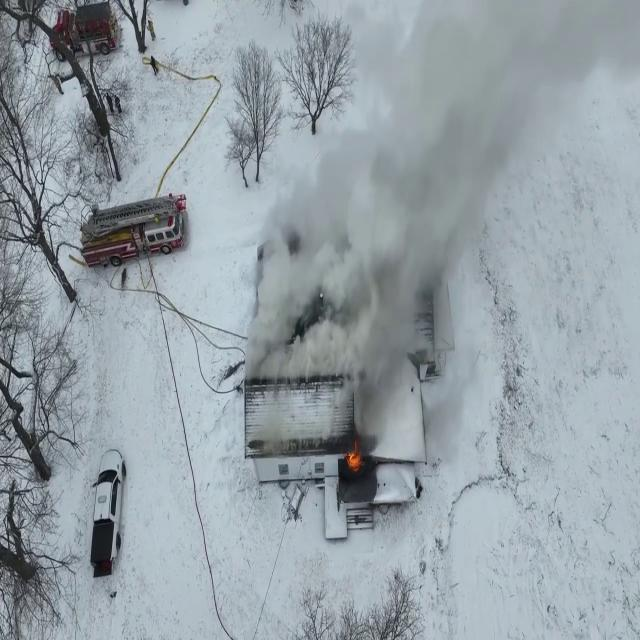Smoke: (241, 2, 582, 450)
